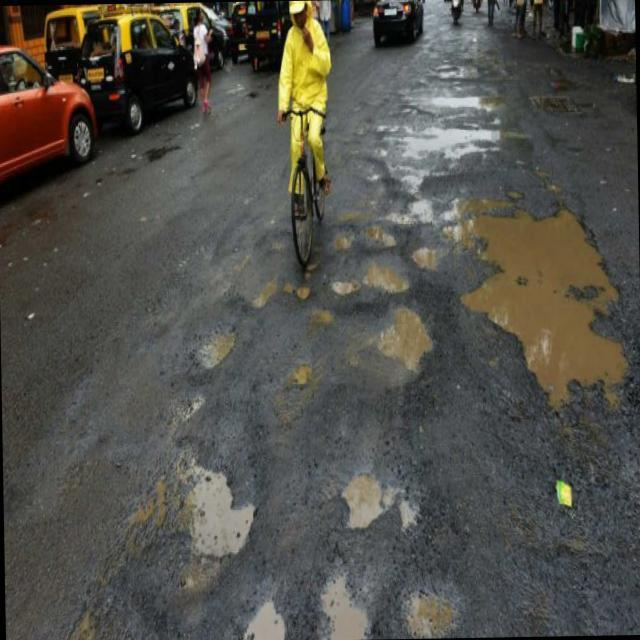Pothole: (454, 201, 635, 403), (188, 457, 256, 561), (316, 569, 379, 640), (384, 304, 435, 374), (399, 577, 456, 636), (340, 470, 393, 529), (246, 592, 287, 640), (202, 324, 237, 370), (363, 260, 408, 292), (248, 276, 280, 308), (408, 242, 440, 272), (369, 224, 396, 252), (412, 196, 434, 230), (330, 270, 358, 296), (294, 354, 311, 391), (388, 208, 414, 228), (336, 224, 352, 254), (296, 276, 310, 304), (444, 204, 457, 221)
